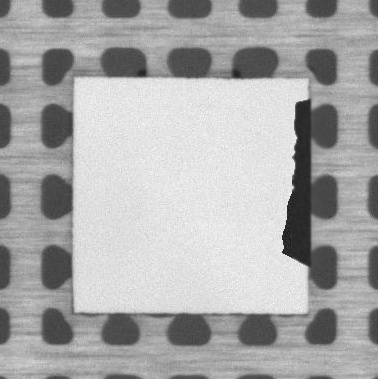DIE_BROKEN: (279, 94, 313, 266)
